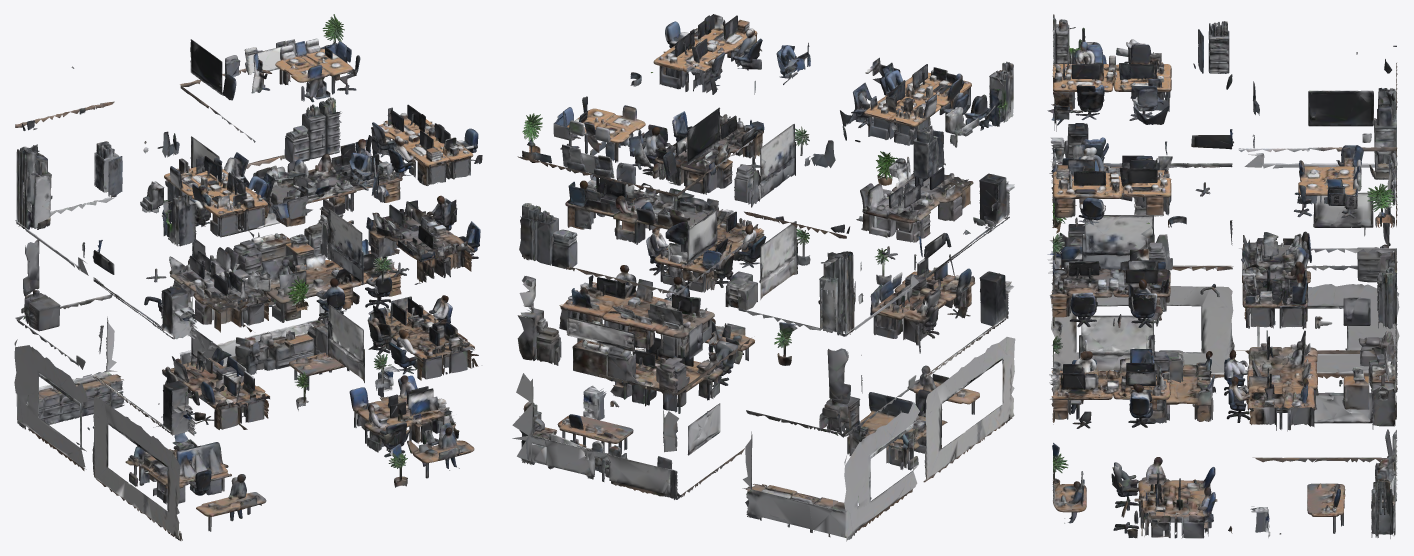
The model's file is Meshy_AI_Make_a_4_story_office_1022133150_texture.glb.
The picture shows the model from 3 angles, left to right: view 1: azimuth 30°, elevation 25°; view 2: azimuth 150°, elevation 25°; view 3: azimuth 270°, elevation 25°; orthographic projection. The views are drawn at different scales.
Size of the model in its own units: 1.69 by 1.74 by 1.5.
1 material, 1 textured.
